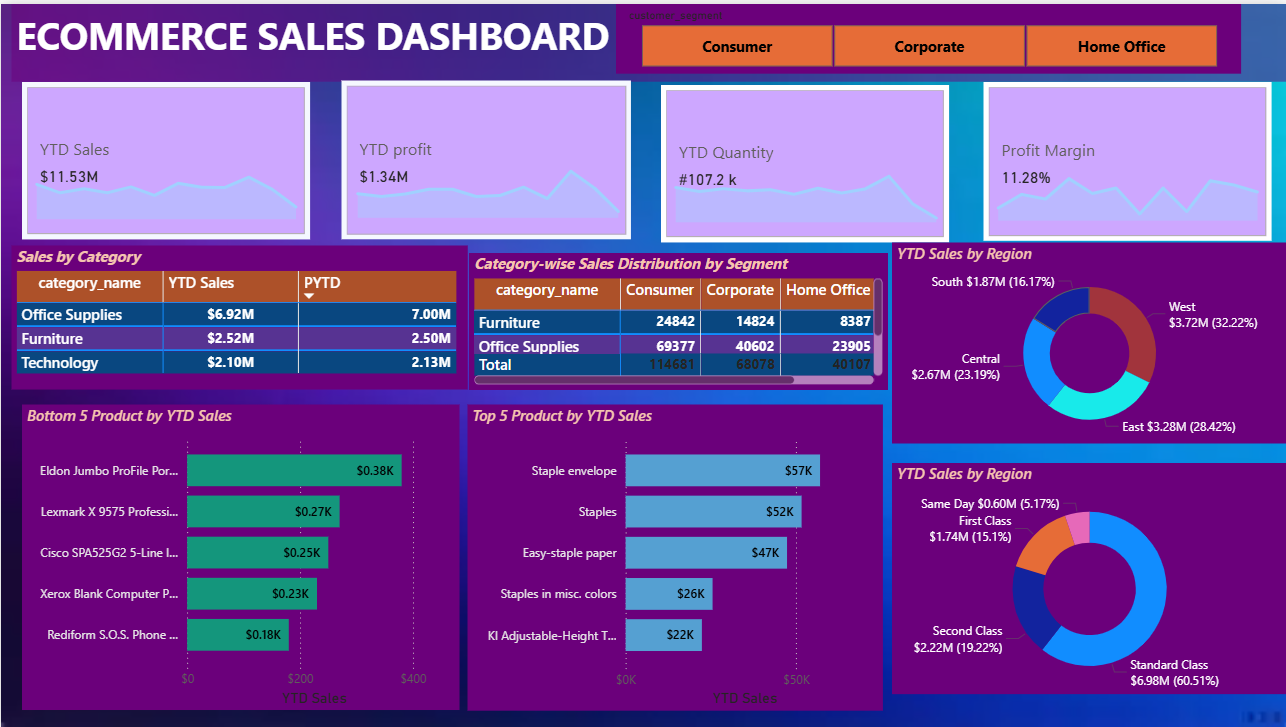

The page's visual inventory and layout, read from the dashboard file:
{"tool":"powerbi","page":{"name":"Page 1","canvas":[1280,720],"ordinal":0},"visuals":[{"type":"textbox","box":[10.8,0,1269.3,77],"z":0},{"type":"cardVisual","fields":{"Data":["ecommerce_data.YTD Sales"]},"box":[20.9,77.6,286.6,156.7],"z":1000},{"type":"stackedAreaChart","fields":{"Category":["calender.month"],"Y":["Sum(ecommerce_data.sales_per_order)"]},"box":[20.9,150.7,286.6,68.7],"z":2000},{"type":"cardVisual","fields":{"Data":["ecommerce_data.YTD profit"]},"box":[338.8,76.1,288.1,158.2],"z":3000},{"type":"stackedAreaChart","fields":{"Category":["calender.month"],"Y":["Sum(ecommerce_data.profit_per_order)"]},"box":[340.3,150.7,288.1,67.2],"z":4000},{"type":"cardVisual","fields":{"Data":["ecommerce_data.YTD concactenated QTY"]},"box":[656.7,80.6,286.6,156.7],"z":5000},{"type":"stackedAreaChart","fields":{"Category":["calender.month"],"Y":["Sum(ecommerce_data.order_quantity)"]},"box":[656.7,155.2,288.1,67.2],"z":6000},{"type":"cardVisual","fields":{"Data":["ecommerce_data.Profit Margin"]},"box":[977.3,77,286.6,158.2],"z":7000},{"type":"stackedAreaChart","fields":{"Category":["calender.month"],"Y":["ecommerce_data.Profit Margin"]},"box":[977.6,152.2,286.6,68.7],"z":8000},{"type":"pivotTable","title":"Sales by Category","fields":{"Rows":["ecommerce_data.category_name"],"Values":["ecommerce_data.YTD Sales","ecommerce_data.PYTD"]},"box":[10.3,241,453.8,143.6],"z":9000},{"type":"barChart","title":"Top 5 Product by YTD Sales","fields":{"Category":["ecommerce_data.product_name"],"Y":["ecommerce_data.YTD Sales"]},"box":[464.2,398.5,413.4,304.5],"z":10000},{"type":"barChart","title":"Bottom 5 Product by YTD Sales","fields":{"Category":["ecommerce_data.product_name"],"Y":["ecommerce_data.YTD Sales"]},"box":[20.3,398.8,435.3,304.1],"z":11000},{"type":"donutChart","title":"YTD Sales by Region","fields":{"Category":["ecommerce_data.customer_region"],"Y":["ecommerce_data.YTD Sales"]},"box":[886.6,237.3,392.5,200],"z":12000},{"type":"donutChart","title":"YTD Sales by Region","fields":{"Category":["ecommerce_data.shipping_type"],"Y":["ecommerce_data.YTD Sales"]},"box":[886.6,456.7,392.5,229.9],"z":13000},{"type":"slicer","fields":{"Values":["ecommerce_data.customer_segment"]},"box":[611.5,0,621.8,69.2],"z":14000},{"type":"pivotTable","title":"Category-wise Sales Distribution by Segment","fields":{"Rows":["ecommerce_data.category_name"],"Columns":["ecommerce_data.customer_segment"],"Values":["Sum(ecommerce_data.order_quantity)"]},"box":[465.7,247.8,416.4,135.8],"z":14001}]}

Visuals, with their boxes in screenshot pixels (x1, y1, x2, y2), scaled from the page's 1280x720 canvas onto the 1286x727 screenshot:
textbox: <region>11, 0, 1285, 78</region>
cardVisual - ecommerce_data.YTD Sales: <region>21, 78, 309, 237</region>
stackedAreaChart - calender.month x Sum(ecommerce_data.sales_per_order): <region>21, 152, 309, 222</region>
cardVisual - ecommerce_data.YTD profit: <region>340, 77, 630, 237</region>
stackedAreaChart - calender.month x Sum(ecommerce_data.profit_per_order): <region>342, 152, 631, 220</region>
cardVisual - ecommerce_data.YTD concactenated QTY: <region>660, 81, 948, 240</region>
stackedAreaChart - calender.month x Sum(ecommerce_data.order_quantity): <region>660, 157, 949, 225</region>
cardVisual - ecommerce_data.Profit Margin: <region>982, 78, 1270, 237</region>
stackedAreaChart - calender.month x ecommerce_data.Profit Margin: <region>982, 154, 1270, 223</region>
"Sales by Category" pivotTable: <region>10, 243, 466, 388</region>
"Top 5 Product by YTD Sales" barChart: <region>466, 402, 882, 710</region>
"Bottom 5 Product by YTD Sales" barChart: <region>20, 403, 458, 710</region>
"YTD Sales by Region" donutChart: <region>891, 240, 1285, 442</region>
"YTD Sales by Region" donutChart: <region>891, 461, 1285, 693</region>
slicer - ecommerce_data.customer_segment: <region>614, 0, 1239, 70</region>
"Category-wise Sales Distribution by Segment" pivotTable: <region>468, 250, 886, 387</region>
